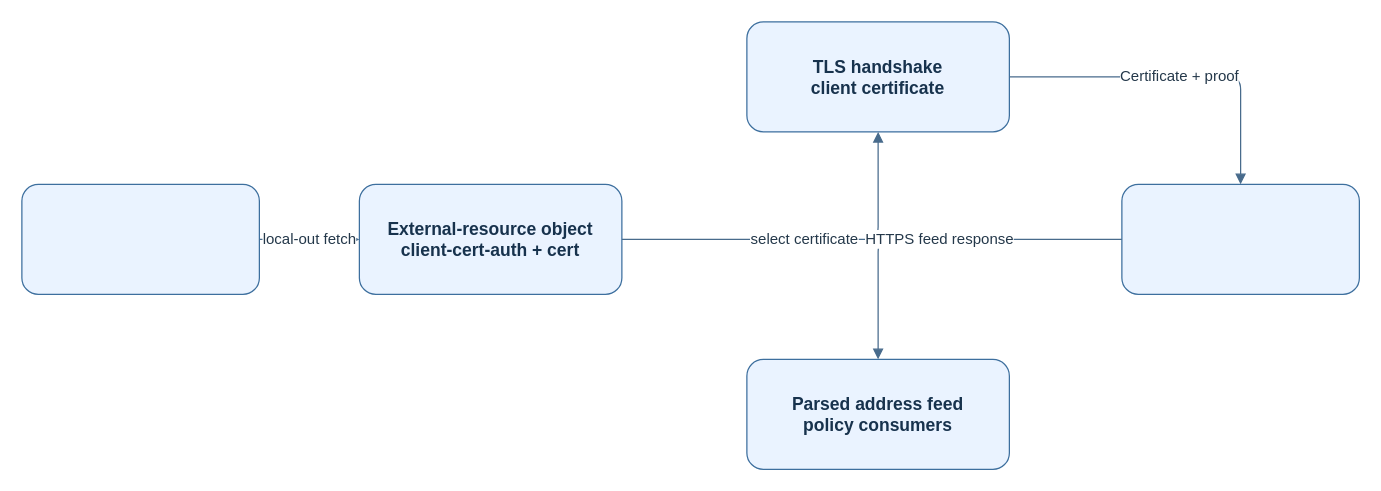
The diagram is 1381 pixels wide and 491 high, and some of its shapes have lost their labels. The shapes that lost their labels are listed below. From the top down, each one's centre as x and y in pixels, then its label:
pixel 140 238: Local-traffic VDOM
pixel 1240 238: mTLS feed server validates clientAuth
